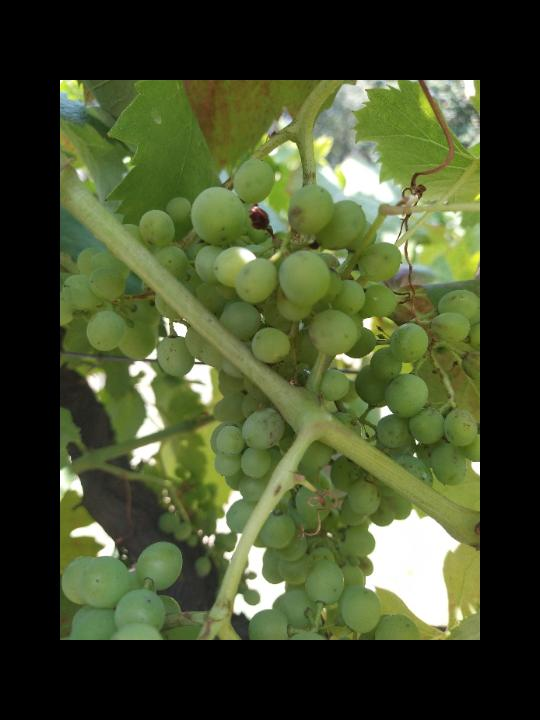grape: (66, 155, 475, 589)
